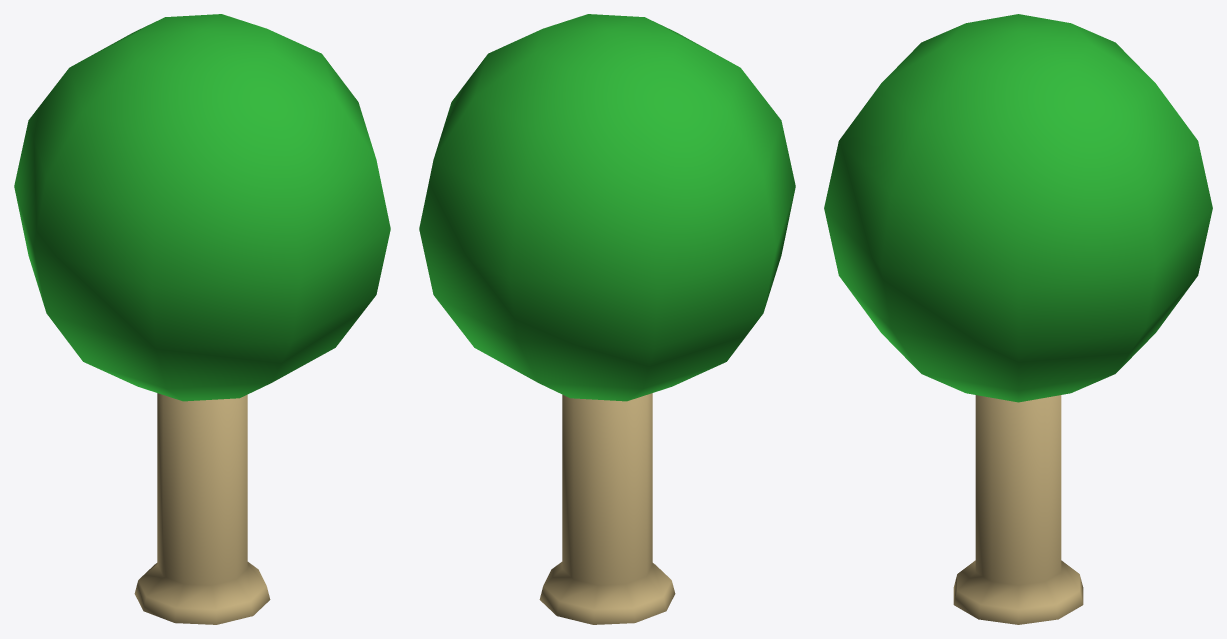
File: tree_round.fbx
3 views of the same model, side by side, from view 1: azimuth 30°, elevation 25°; view 2: azimuth 150°, elevation 25°; view 3: azimuth 270°, elevation 25° (orthographic).
Visible parts, largest first — view 1: crown, base; view 2: crown, base; view 3: crown, base.
Part boxes in pixels (x1,y1,x2,y2): crown: (14,14,390,401); base: (134,393,270,624); crown: (419,14,795,401); base: (539,393,675,624); crown: (824,14,1212,402); base: (953,395,1083,624).
Bounding box in the file's own units: 4.91 × 7.86 × 4.91.
